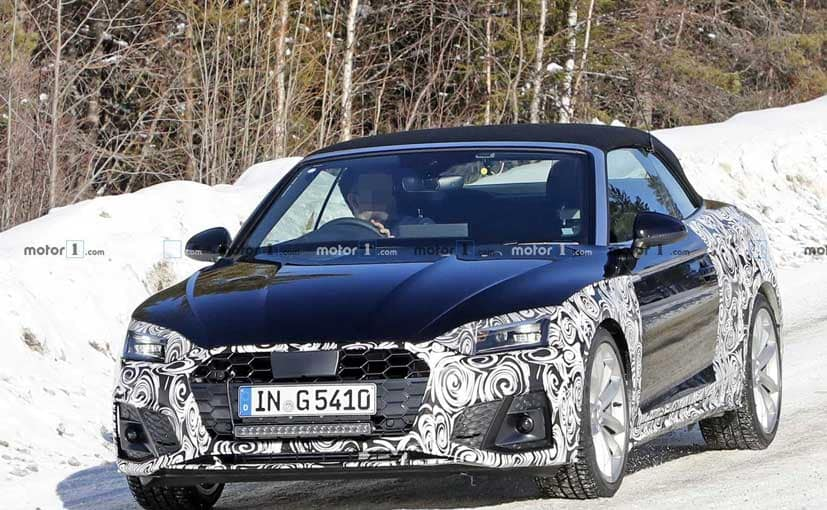number_plate: (236, 380, 380, 414)
